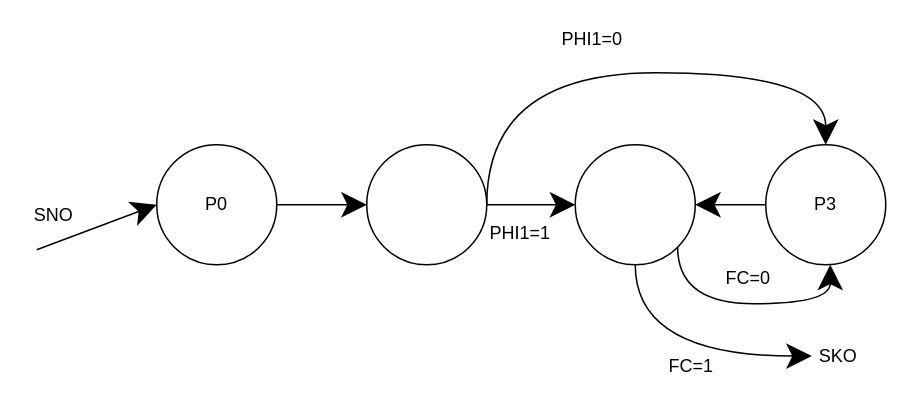
Some shapes in this 912 by 405 pixel diagram are drawn without their labels. Here are the shapes that lost their labels. From the top down, the box of each, then its label:
(365, 143, 487, 265): P1
(574, 143, 695, 265): P2
